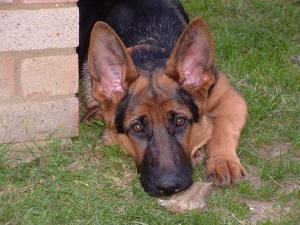German_shepherd: (78, 0, 250, 198)
